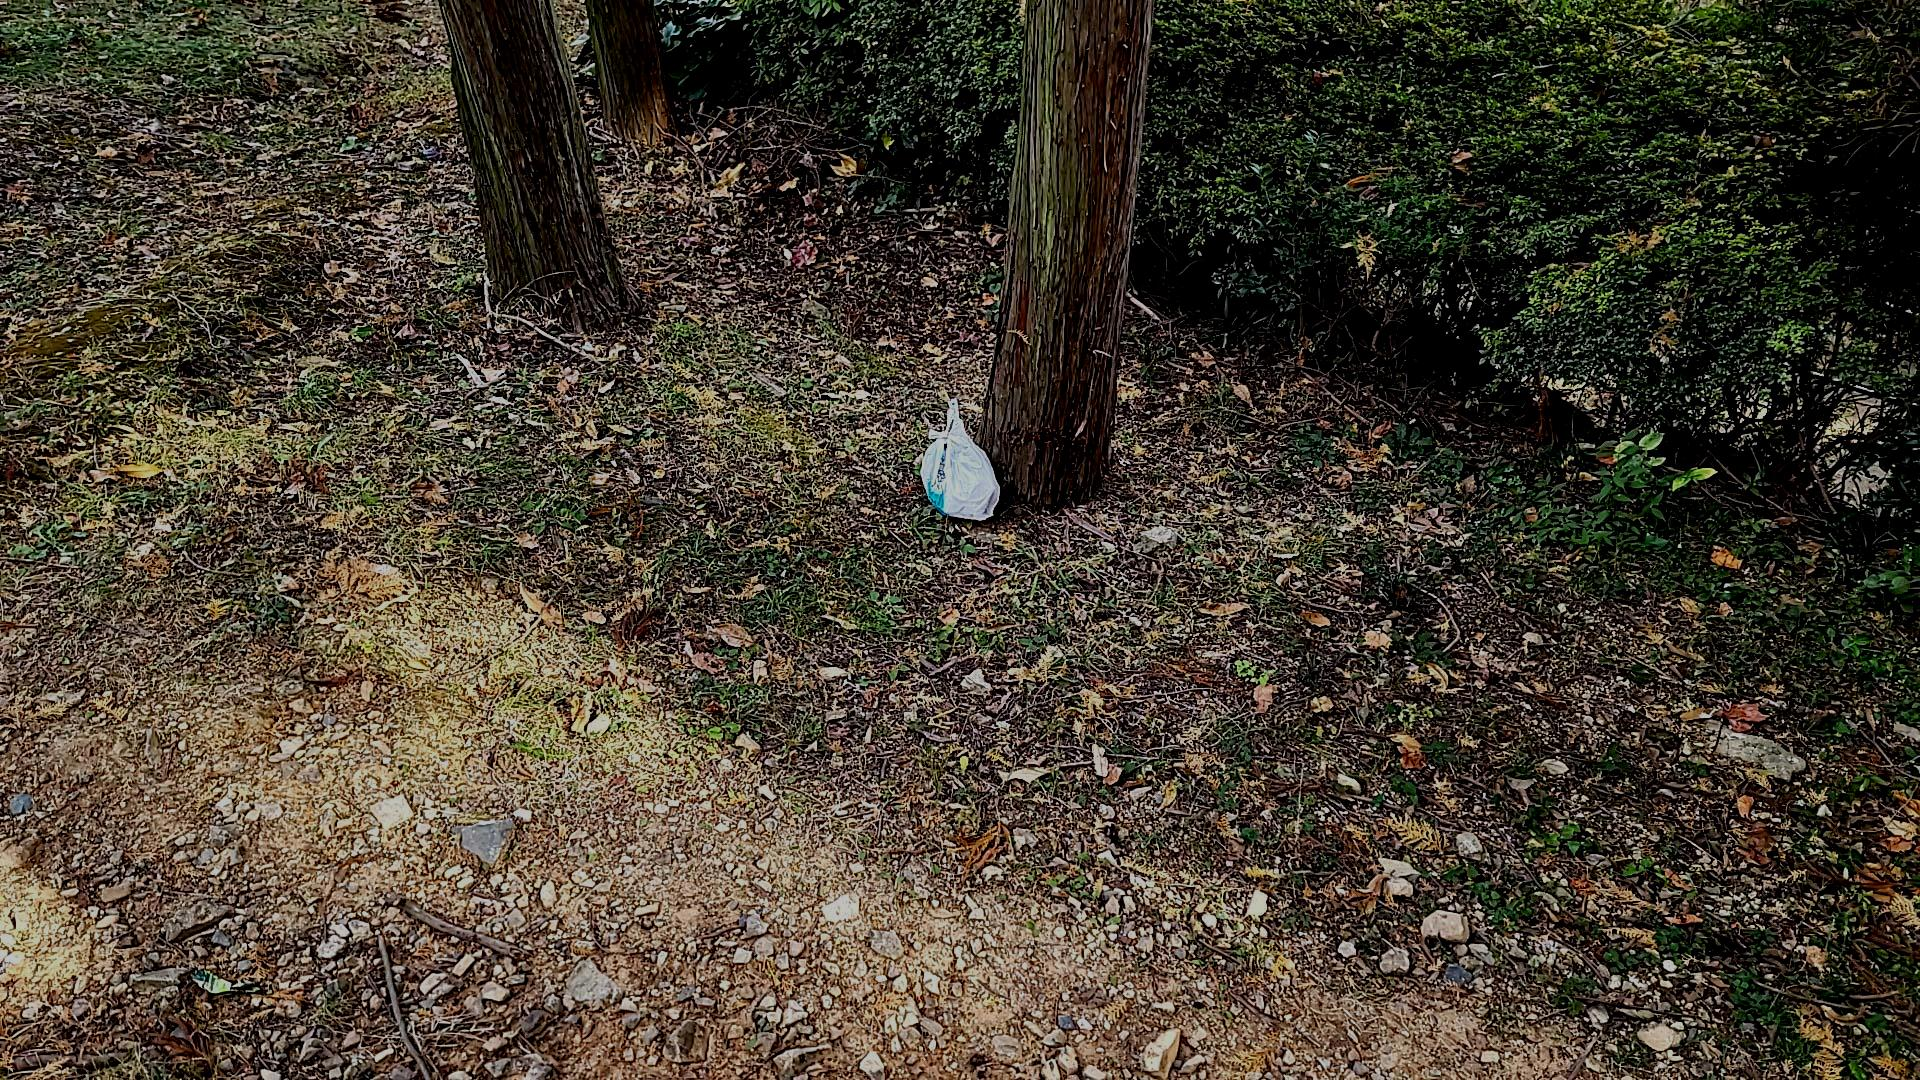white_bag: (907, 397, 1011, 531)
